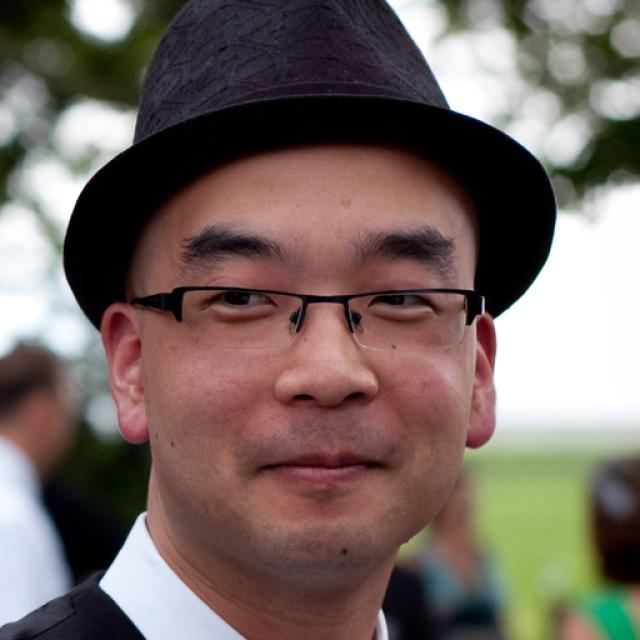happy: (141, 137, 474, 582)
